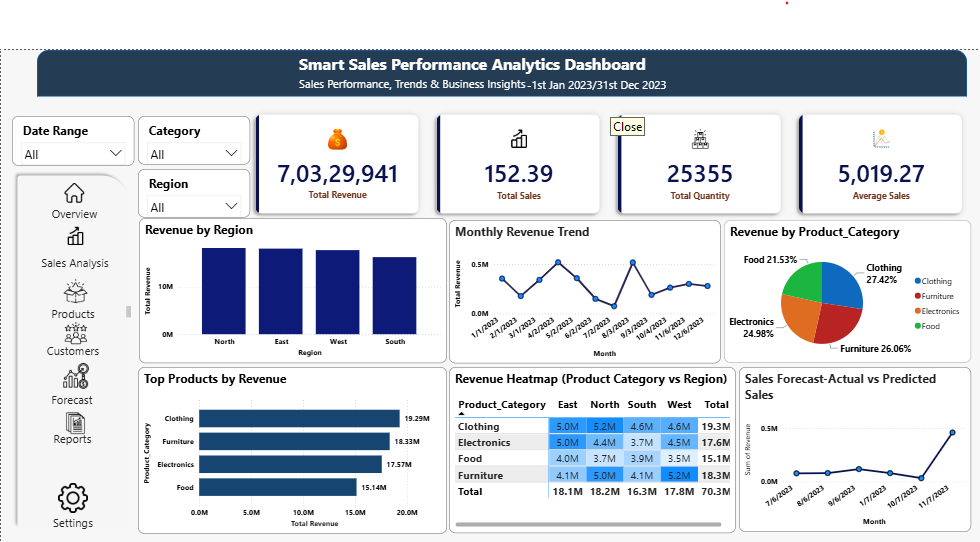

Layout of this report page (visuals, bound fields, positions):
{"tool":"powerbi","page":{"name":"Page 1","canvas":[1632,820],"ordinal":0},"visuals":[{"type":"cardVisual","fields":{"Data":["sales_data(in).Total Revenue","sales_data(in).Total Sales","sales_data(in).Total Quantity","sales_data(in).Average Sales"]},"box":[395,78.3,1236.7,223.3],"z":0},{"type":"shape","box":[60,0,1550,77.6],"z":1000},{"type":"textbox","box":[491.4,0,610.3,51.7],"z":2000},{"type":"textbox","box":[470.7,37.9,431,39.7],"z":3000},{"type":"textbox","box":[872.4,39.7,284.5,48.3],"z":4000},{"type":"pieChart","title":"Revenue by Product_Category","fields":{"Y":["sales_data(in).Total Revenue"],"Category":["sales_data(in).Product_Category"]},"box":[1205,283.3,411.7,238.3],"z":5000},{"type":"columnChart","title":"Revenue by Region","fields":{"Category":["sales_data(in).Region"],"Y":["sales_data(in).Total Revenue"]},"box":[230,280,513.3,241.7],"z":6000},{"type":"lineChart","title":"Monthly Revenue Trend","fields":{"Category":["sales_data(in).Month"],"Y":["sales_data(in).Total Revenue"]},"box":[746.7,283.3,453.3,239],"z":7000},{"type":"pivotTable","title":"Revenue Heatmap (Product Category vs Region)","fields":{"Rows":["sales_data(in).Product_Category"],"Columns":["sales_data(in).Region"],"Values":["sales_data(in).Total Revenue"]},"box":[746.7,528.3,478,276.7],"z":8000},{"type":"clusteredBarChart","title":"Top Products by Revenue","fields":{"Category":["sales_data(in).Product_Category"],"Y":["sales_data(in).Total Revenue"]},"box":[228.3,528.3,515,278.3],"z":9000},{"type":"lineChart","title":"Sales Forecast-Actual vs Predicted Sales","fields":{"Category":["sales_data(in).Month"],"Y":["Sum(sales_data(in).Revenue)"]},"box":[1230,528.3,386.7,275],"z":10000},{"type":"slicer","fields":{"Values":["sales_data(in).Sale_Date"]},"box":[18.3,110,204,83.3],"z":11000},{"type":"slicer","fields":{"Values":["sales_data(in).Region"]},"box":[228.3,198.3,187,81],"z":12000},{"type":"slicer","fields":{"Values":["sales_data(in).Product_Category"]},"box":[228.3,110,187,81],"z":13000},{"type":"shape","box":[18.3,200,203.3,605],"z":14000},{"type":"image","box":[96.7,221.7,51.7,33.3],"z":15000},{"type":"textbox","box":[45,255,155,43.3],"z":16000},{"type":"image","box":[106.7,283.3,35,53.3],"z":17000},{"type":"textbox","box":[35,336.7,176.7,45],"z":18000},{"type":"image","box":[58.3,381.7,131.7,40],"z":19000},{"type":"textbox","box":[26.7,421.7,195,31.7],"z":20000},{"type":"image","box":[93.3,453.3,63.3,36.7],"z":21000},{"type":"textbox","box":[60,483.3,120,45],"z":22000},{"type":"image","box":[96.7,521.7,56.7,43.3],"z":23000},{"type":"textbox","box":[48.3,565,140,38.3],"z":24000},{"type":"image","box":[66.7,603.3,115,36.7],"z":25000},{"type":"textbox","box":[50,630,138.3,38.3],"z":26000},{"type":"image","box":[70,721.7,100,50],"z":27000},{"type":"textbox","box":[48.3,770,143.3,50],"z":28000}]}

Visuals, with their boxes on the page's 1632x820 design canvas (x1, y1, x2, y2). These are canvas units, not pixel positions in the 980x542 screenshot, which may show the page scaled, cropped or inside an application window:
cardVisual - sales_data(in).Total Revenue x sales_data(in).Total Sales: x1=395 y1=78 x2=1632 y2=302
shape: x1=60 y1=0 x2=1610 y2=78
textbox: x1=491 y1=0 x2=1102 y2=52
textbox: x1=471 y1=38 x2=902 y2=78
textbox: x1=872 y1=40 x2=1157 y2=88
"Revenue by Product_Category" pieChart: x1=1205 y1=283 x2=1617 y2=522
"Revenue by Region" columnChart: x1=230 y1=280 x2=743 y2=522
"Monthly Revenue Trend" lineChart: x1=747 y1=283 x2=1200 y2=522
"Revenue Heatmap (Product Category vs Region)" pivotTable: x1=747 y1=528 x2=1225 y2=805
"Top Products by Revenue" clusteredBarChart: x1=228 y1=528 x2=743 y2=807
"Sales Forecast-Actual vs Predicted Sales" lineChart: x1=1230 y1=528 x2=1617 y2=803
slicer - sales_data(in).Sale_Date: x1=18 y1=110 x2=222 y2=193
slicer - sales_data(in).Region: x1=228 y1=198 x2=415 y2=279
slicer - sales_data(in).Product_Category: x1=228 y1=110 x2=415 y2=191
shape: x1=18 y1=200 x2=222 y2=805
image: x1=97 y1=222 x2=148 y2=255
textbox: x1=45 y1=255 x2=200 y2=298
image: x1=107 y1=283 x2=142 y2=337
textbox: x1=35 y1=337 x2=212 y2=382
image: x1=58 y1=382 x2=190 y2=422
textbox: x1=27 y1=422 x2=222 y2=453
image: x1=93 y1=453 x2=157 y2=490
textbox: x1=60 y1=483 x2=180 y2=528
image: x1=97 y1=522 x2=153 y2=565
textbox: x1=48 y1=565 x2=188 y2=603
image: x1=67 y1=603 x2=182 y2=640
textbox: x1=50 y1=630 x2=188 y2=668
image: x1=70 y1=722 x2=170 y2=772
textbox: x1=48 y1=770 x2=192 y2=820
